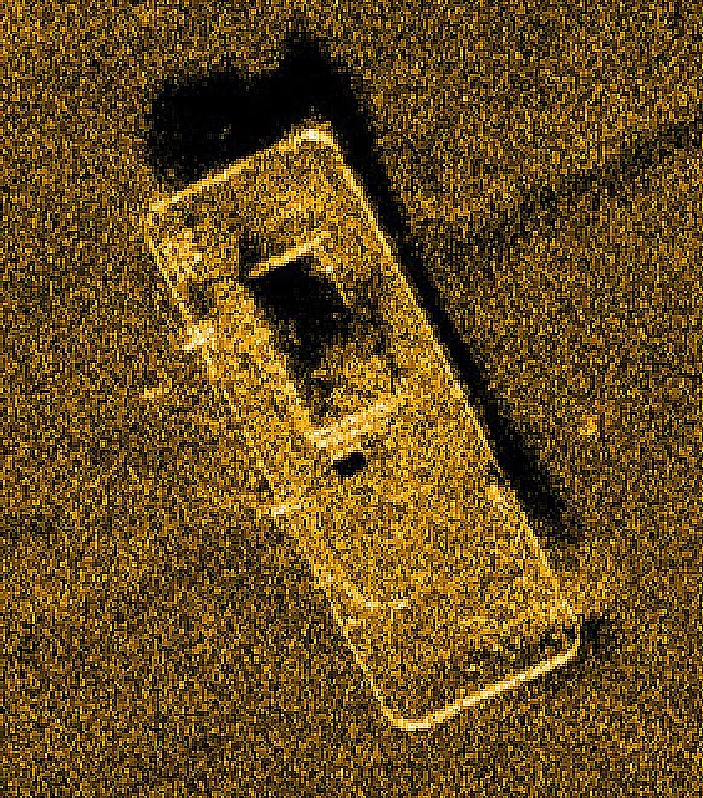ship: (138, 112, 585, 733)
